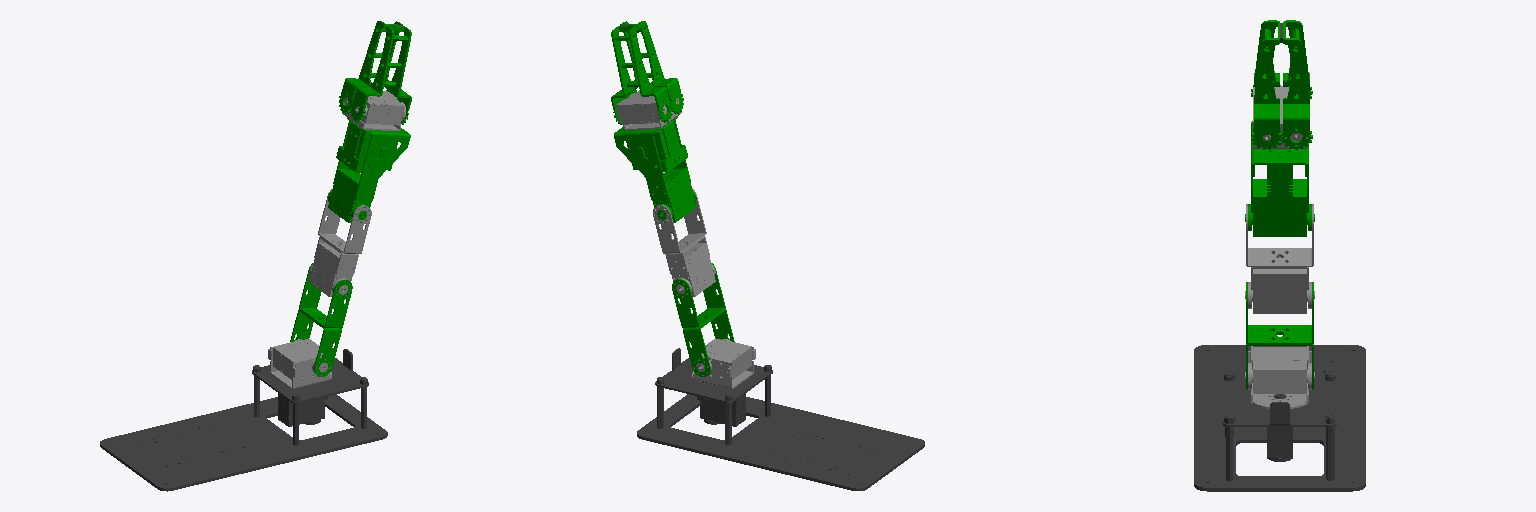
robot.urdf — arm5dof:
<?xml version="1.0" encoding="utf-8"?>
<!-- This URDF was automatically created by SolidWorks to URDF Exporter! Originally created by Stephen Brawner (brawner@gmail.com) 
     Commit Version: 1.6.0-4-g7f85cfe  Build Version: 1.6.7995.38578
     For more information, please see http://wiki.ros.org/sw_urdf_exporter -->
<robot
  name="arm5dof">
  <link
    name="arm_base_link">
    <inertial>
      <origin
        xyz="-0.05549 -1.2443E-05 0.014047"
        rpy="0 0 0" />
      <mass
        value="0.34831" />
      <inertia
        ixx="0.00037734"
        ixy="-1.9667E-07"
        ixz="-5.7059E-07"
        iyy="0.0011827"
        iyz="9.3336E-14"
        izz="0.0015361" />
    </inertial>
    <visual>
      <origin
        xyz="0 0 0"
        rpy="0 0 0" />
      <geometry>
        <mesh
          filename="package://robot_control/meshes/base_link.STL" />
      </geometry>
      <material
        name="black">
        <color
          rgba="0.3 0.3 0.3 1" />
      </material>
    </visual>
    <collision>
      <origin
        xyz="0 0 0"
        rpy="0 0 0" />
      <geometry>
        <mesh
          filename="package://robot_control/meshes/base_link.STL" />
      </geometry>
    </collision>
  </link>
  <link
    name="link1">
    <inertial>
      <origin
        xyz="-0.0098047 1.4097E-06 0.014583"
        rpy="0 0 0" />
      <mass
        value="0.047857" />
      <inertia
        ixx="9.9743E-06"
        ixy="1.2606E-09"
        ixz="5.9862E-07"
        iyy="8.9062E-06"
        iyz="2.193E-09"
        izz="1.4861E-05" />
    </inertial>
    <visual>
      <origin
        xyz="0 0 0"
        rpy="0 0 0" />
      <geometry>
        <mesh
          filename="package://robot_control/meshes/link1.STL" />
      </geometry>
      <material
        name="green">
        <color
          rgba="0.6 0.6 0.6 1" />
      </material>
    </visual>
    <collision>
      <origin
        xyz="0 0 0"
        rpy="0 0 0" />
      <geometry>
        <mesh
          filename="package://robot_control/meshes/link1.STL" />
      </geometry>
    </collision>
  </link>
  <joint
    name="joint_0"
    type="revolute">
    <origin
      xyz="0 0 0.052"
      rpy="0 0 0" />
    <parent
      link="arm_base_link" />
    <child
      link="link1" />
    <axis
      xyz="0 0 1" />
    <limit
      lower="-1.5708"
      upper="1.5708"
      effort="20"
      velocity="3.5" />
  </joint>
    <link
    name="link2">
    <inertial>
      <origin
        xyz="0.04 -5.5511E-17 6.7485E-17"
        rpy="0 0 0" />
      <mass
        value="0.020202" />
      <inertia
        ixx="9.9386E-06"
        ixy="1.7219E-08"
        ixz="-5.3147E-21"
        iyy="1.3724E-05"
        iyz="-1.594E-21"
        izz="5.1826E-06" />
    </inertial>
    <visual>
      <origin
        xyz="0 0 0"
        rpy="0 0 0" />
      <geometry>
        <mesh
          filename="package://robot_control/meshes/link2.STL" />
      </geometry>
      <material
        name="green">
        <color
          rgba="0 0.6 0 1" />
      </material>
    </visual>
    <collision>
      <origin
        xyz="0 0 0"
        rpy="0 0 0" />
      <geometry>
        <mesh
          filename="package://robot_control/meshes/link2.STL" />
      </geometry>
    </collision>
  </link>
  <joint
    name="joint_1"
    type="revolute">
    <origin
      xyz="0 0 0.018"
      rpy="-1.5708 0 0" />
    <parent
      link="link1" />
    <child
      link="link2" />
    <axis
      xyz="0 0 1"
      rpy = "0 0 0" />
    <limit
      lower="-2.3562"
      upper="-0.2269"
      effort="20"
      velocity="3.5" />
  </joint>

  <link
    name="link3">
    <inertial>
      <origin
        xyz="0.019908 0 -6.1294E-06"
        rpy="0 0 0" />
      <mass
        value="0.050927" />
      <inertia
        ixx="1.2573E-05"
        ixy="8.6095E-09"
        ixz="-1.9789E-09"
        iyy="1.7838E-05"
        iyz="3.1614E-20"
        izz="8.6328E-06" />
    </inertial>
    <visual>
      <origin
        xyz="0 0 0"
        rpy="0 0 0" />
      <geometry>
        <mesh
          filename="package://robot_control/meshes/link3.STL" />
      </geometry>
      <material
        name="gray">
        <color
          rgba="0.6 0.6 0.6 1" />
      </material>
    </visual>
    <collision>
      <origin
        xyz="0 0 0"
        rpy="0 0 0" />
      <geometry>
        <mesh
          filename="package://robot_control/meshes/link3.STL" />
      </geometry>
    </collision>
  </link>
  <joint
    name="joint_2"
    type="revolute">
    <origin
      xyz="0.08 0 0"
      rpy="0 0 0" />
    <parent
      link="link2" />
    <child
      link="link3" />
    <axis
      xyz="0 0 1" />
    <limit
      lower="-0.7854"
      upper="1.5708"
      effort="20"
      velocity="3.5" />
  </joint>
  <link
    name="link4">
    <inertial>
      <origin
        xyz="0.042216 0.0041806 -3.2915E-06"
        rpy="0 0 0" />
      <mass
        value="0.094835" />
      <inertia
        ixx="2.4341E-05"
        ixy="-2.5244E-06"
        ixz="-1.9789E-09"
        iyy="3.3312E-05"
        iyz="1.4436E-20"
        izz="3.0737E-05" />
    </inertial>
    <visual>
      <origin
        xyz="0 0 0"
        rpy="0 0 0" />
      <geometry>
        <mesh
          filename="package://robot_control/meshes/link4.STL" />
      </geometry>
      <material
        name="green">
        <color
          rgba="0 0.6 0 1" />
      </material>
    </visual>
    <collision>
      <origin
        xyz="0 0 0"
        rpy="0 0 0" />
      <geometry>
        <mesh
          filename="package://robot_control/meshes/link4.STL" />
      </geometry>
    </collision>
  </link>
  <joint
    name="joint_3"
    type="revolute">
    <origin
      xyz="0.07615 0 0"
      rpy="0 0 0" />
    <parent
      link="link3" />
    <child
      link="link4" />
    <axis
      xyz="0 0 1"
      rpy = "0 0 0" />
    <limit
      lower="-1.5708"
      upper="2.26893"
      effort="20"
      velocity="3.5" />
  </joint>
  <link
    name="link5">
    <inertial>
      <origin
        xyz="-8.2184E-06 -0.0011968 0.01386"
        rpy="0 0 0" />
      <mass
        value="0.049124" />
      <inertia
        ixx="8.2684E-06"
        ixy="2.2759E-09"
        ixz="5.1987E-11"
        iyy="1.1645E-05"
        iyz="5.9116E-07"
        izz="1.5458E-05" />
    </inertial>
    <visual>
      <origin
        xyz="0 0 0"
        rpy="0 0 0" />
      <geometry>
        <mesh
          filename="package://robot_control/meshes/link5.STL" />
      </geometry>
      <material
        name="gray">
        <color
          rgba="0.6 0.6 0.6 1" />
      </material>
    </visual>
    <collision>
      <origin
        xyz="0 0 0"
        rpy="0 0 0" />
      <geometry>
        <mesh
          filename="package://robot_control/meshes/link5.STL" />
      </geometry>
    </collision>
  </link>
<joint
    name="joint_4"
    type="revolute">
    <origin
      xyz="0.0854 0 0"
      rpy="-1.57079632679489 8.79419361882729E-05 -1.5707963267949" />
    <parent
      link="link4" />
    <child
      link="link5" />
    <axis
      xyz="0 0 1" />
    <limit
      lower="-1.5708"
      upper="1.5708"
      effort="20"
      velocity="3.5" />
  </joint>
  <link
    name="left_gripper_link">
    <inertial>
      <origin
        xyz="0.035118 0.00016366 5.5511E-17"
        rpy="0 0 0" />
      <mass
        value="0.024589" />
      <inertia
        ixx="1.611E-06"
        ixy="2.5381E-07"
        ixz="1.1103E-20"
        iyy="1.2951E-05"
        iyz="-2.2806E-22"
        izz="1.2364E-05" />
    </inertial>
    <visual>
      <origin
        xyz="0 0 0"
        rpy="0 0 0" />
      <geometry>
        <mesh
          filename="package://robot_control/meshes/left_gripper_link.STL" />
      </geometry>
      <material
        name="green">
        <color
          rgba="0 0.6 0 1" />
      </material>
    </visual>
    <collision>
      <origin
        xyz="0 0 0"
        rpy="0 0 0" />
      <geometry>
        <mesh
          filename="package://robot_control/meshes/left_gripper_link.STL" />
      </geometry>
    </collision>
  </link>
  <joint
    name="left_gripper_joint"
    type="revolute">
    <origin
      xyz="0 0.00965 0.016"
      rpy="8.7942E-05 -1.5708 0" />
    <parent
      link="link5" />
    <child
      link="left_gripper_link" />
    <axis
      xyz="0 0 1" />
    <limit
      lower="0"
      upper="1.5708"
      effort="20"
      velocity="3.5" />
  </joint>
  <link
    name="left_rubber_pad_link">
    <inertial>
      <origin
        xyz="-5.5511E-17 0.0005 0"
        rpy="0 0 0" />
      <mass
        value="8.5E-05" />
      <inertia
        ixx="2.0542E-09"
        ixy="-5.8301E-25"
        ixz="-4.0091E-24"
        iyy="2.2242E-09"
        iyz="2.0909E-27"
        izz="1.8417E-10" />
    </inertial>
    <visual>
      <origin
        xyz="0 0 0"
        rpy="0 0 0" />
      <geometry>
        <mesh
          filename="package://robot_control/meshes/left_rubber_pad_link.STL" />
      </geometry>
      <material
        name="rubber">
        <color
          rgba="0.29804 0.29804 0.29804 1" />
      </material>
    </visual>
    <collision>
      <origin
        xyz="0 0 0"
        rpy="0 0 0" />
      <geometry>
        <mesh
          filename="package://robot_control/meshes/left_rubber_pad_link.STL" />
      </geometry>
    </collision>
  </link>
  <joint
    name="left_rubber_pad_joint"
    type="fixed">
    <origin
      xyz="0.0810000000000007 -0.0109999999999981 0"
      rpy="0 0 0" />
    <parent
      link="left_gripper_link" />
    <child
      link="left_rubber_pad_link" />
    <axis
      xyz="0 0 0" />
  </joint>
  <link
    name="right_gripper_link">
    <inertial>
      <origin
        xyz="0.036355 -0.00017366 -4.996E-16"
        rpy="0 0 0" />
      <mass
        value="0.023734" />
      <inertia
        ixx="1.5331E-06"
        ixy="-2.5364E-07"
        ixz="-1.9986E-21"
        iyy="1.2074E-05"
        iyz="7.3824E-23"
        izz="1.1549E-05" />
    </inertial>
    <visual>
      <origin
        xyz="0 0 0"
        rpy="0 0 0" />
      <geometry>
        <mesh
          filename="package://robot_control/meshes/right_gripper_link.STL" />
      </geometry>
      <material
        name="green">
        <color
          rgba="0 0.6 0 1" />
      </material>
    </visual>
    <collision>
      <origin
        xyz="0 0 0"
        rpy="0 0 0" />
      <geometry>
        <mesh
          filename="package://robot_control/meshes/right_gripper_link.STL" />
      </geometry>
    </collision>
  </link>
  <joint
    name="right_gripper_joint"
    type="revolute">
    <origin
      xyz="0 -0.0123499997975674 0.016"
      rpy="8.79419382699738E-05 -1.5707963267949 0" />
    <parent
      link="link5" />
    <child
      link="right_gripper_link" />
    <axis
      xyz="0 0 1" />
    <limit
      lower="-1.5708"
      upper="0"
      effort="20"
      velocity="3.5" />
    <mimic
      joint="left_gripper_joint"
      multiplier="-1"
      offset="0" />
  </joint>
  <link
    name="right_rubber_pad_link">
    <inertial>
      <origin
        xyz="3.3307E-16 -0.0005 -2.6507E-15"
        rpy="0 0 0" />
      <mass
        value="8.5E-05" />
      <inertia
        ixx="2.0542E-09"
        ixy="-8.9622E-25"
        ixz="1.5346E-24"
        iyy="2.2242E-09"
        iyz="3.0737E-27"
        izz="1.8417E-10" />
    </inertial>
    <visual>
      <origin
        xyz="0 0 0"
        rpy="0 0 0" />
      <geometry>
        <mesh
          filename="package://robot_control/meshes/right_rubber_pad_link.STL" />
      </geometry>
      <material
        name="rubber">
        <color
          rgba="0.29804 0.29804 0.29804 1" />
      </material>
    </visual>
    <collision>
      <origin
        xyz="0 0 0"
        rpy="0 0 0" />
      <geometry>
        <mesh
          filename="package://robot_control/meshes/right_rubber_pad_link.STL" />
      </geometry>
    </collision>
  </link>
  <joint
    name="right_rubber_pad_joint"
    type="fixed">
    <origin
      xyz="0.081 0.011 0"
      rpy="0 0 0" />
    <parent
      link="right_gripper_link" />
    <child
      link="right_rubber_pad_link" />
    <axis
      xyz="0 0 0" />
  </joint>
  <link
    name="ee_link">
  </link>
  <joint
    name="ee_joint"
    type="fixed">
    <parent link= "link5"/>
    <child link= "ee_link"/>
    <origin xyz= "0.000 0 0.07" rpy="0 0 0"/>
  </joint>  
</robot>

--- Facts derived from the render (not from the file) ---
3 views of the same robot in one strip: view 1: azimuth 30°, elevation 25°; view 2: azimuth 150°, elevation 25°; view 3: azimuth 270°, elevation 25° (orthographic).
Model arm5dof with 11 links and 10 joints (7 revolute, 3 fixed), rooted at arm_base_link, posed all joints at 0 but 1 set to mid-range because 0 is outside their limits (joint_1 = -1.29).
Links seen in each view (by area): view 1: arm_base_link, link4, link3, link2, link1, left_gripper_link, link5, right_gripper_link; view 2: arm_base_link, link4, link3, link2, link1, right_gripper_link, link5, left_gripper_link; view 3: arm_base_link, link4, link3, link1, right_gripper_link, left_gripper_link, link2, link5.
Link boxes in pixels (x1,y1,x2,y2): arm_base_link: (100,349,387,491); link4: (328,117,410,222); link3: (309,189,371,296); link2: (290,263,352,376); link1: (268,339,331,389); left_gripper_link: (350,25,411,124); link5: (342,91,405,130); right_gripper_link: (339,21,402,113); arm_base_link: (637,348,924,490); link4: (614,116,696,222); link3: (653,188,715,296); link2: (672,263,734,376); link1: (692,338,755,388); right_gripper_link: (611,25,672,124); link5: (616,90,681,130); left_gripper_link: (620,21,683,113); arm_base_link: (1194,345,1365,491); link4: (1245,121,1314,236); link3: (1245,204,1314,313); link1: (1245,346,1314,408); right_gripper_link: (1280,20,1312,149); left_gripper_link: (1251,20,1282,149); link2: (1246,282,1313,389); link5: (1253,86,1306,148).
Bounding box of the posed robot: 0.3041 × 0.128 × 0.4009 m (x, y, z).
Meshes: 10 distinct files referenced, 10 mesh visuals loaded (10 binary STL).
